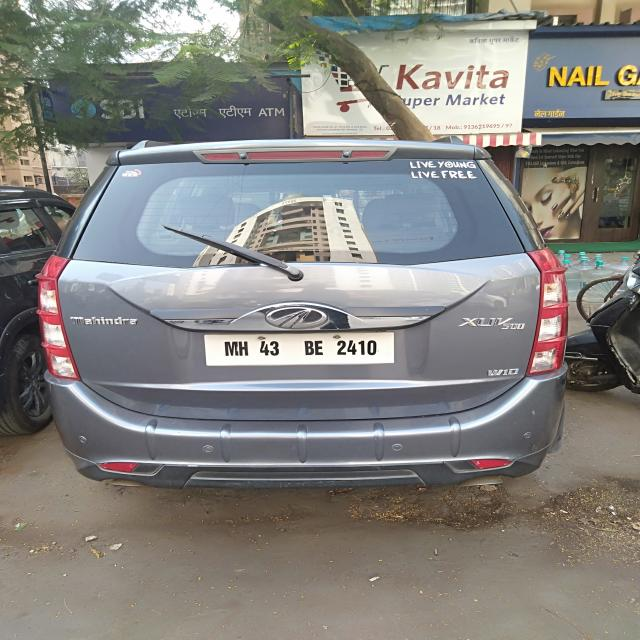Number-Plate: (202, 333, 397, 365)
